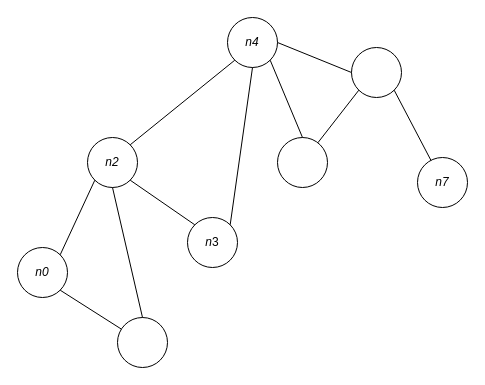
Some shapes in this 485 by 385 pixel diagram are drawn without their labels. The box of each missing label's shape, as (x1, y1, x2, y2) in pixels:
n1: (116, 316, 168, 368)
n5: (276, 136, 328, 188)
n6: (350, 46, 402, 98)
